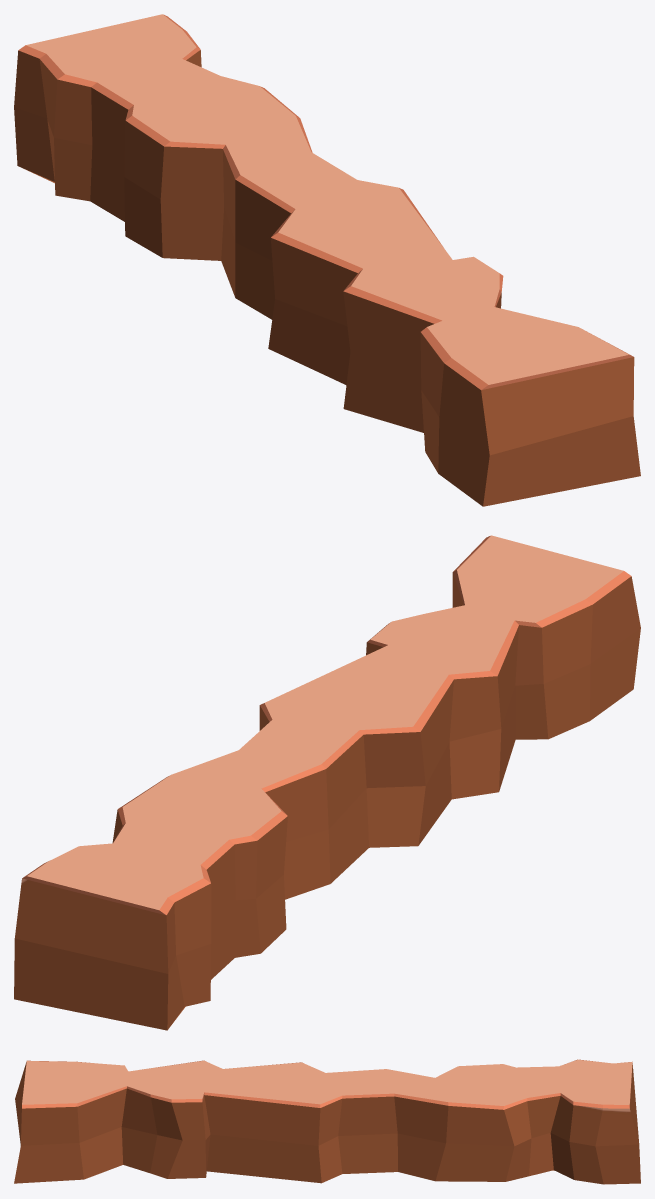
File: Cliff.fbx
The picture shows the model from 3 angles, top to bottom: view 1: azimuth 30°, elevation 25°; view 2: azimuth 150°, elevation 25°; view 3: azimuth 270°, elevation 25°; orthographic projection. The views are drawn at different scales.
Visible parts, largest first — view 1: Cliff 2; view 2: Cliff 2; view 3: Cliff 2.
Part boxes in pixels (x1,y1,x2,y2): Cliff 2: [14, 14, 640, 506]; Cliff 2: [14, 535, 640, 1030]; Cliff 2: [14, 1059, 640, 1184].
Bounding box in the file's own units: 20.58 × 15.63 × 111.
1 material, 1 textured.
